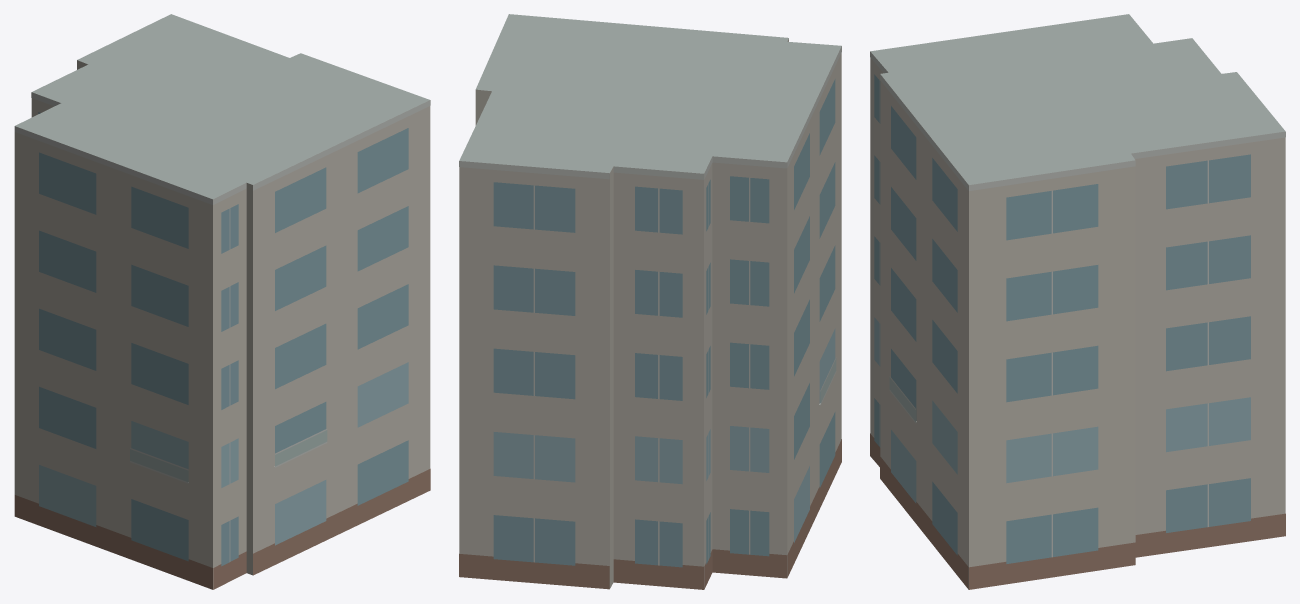
Rendered from survey-upis-32915800.glb.
The picture shows the model from 3 angles, left to right: view 1: azimuth 30°, elevation 25°; view 2: azimuth 150°, elevation 25°; view 3: azimuth 270°, elevation 25°; orthographic projection. The views are drawn at different scales.
Visible parts, largest first — view 1: survey-upis-32915800.tmp; view 2: survey-upis-32915800.tmp; view 3: survey-upis-32915800.tmp.
Part boxes in pixels (x1=…): survey-upis-32915800.tmp: x1=14, y1=14, x2=430, y2=589; survey-upis-32915800.tmp: x1=459, y1=14, x2=841, y2=589; survey-upis-32915800.tmp: x1=870, y1=14, x2=1285, y2=589.
Size of the model in its own units: 14.93 by 16.45 by 15.32.
